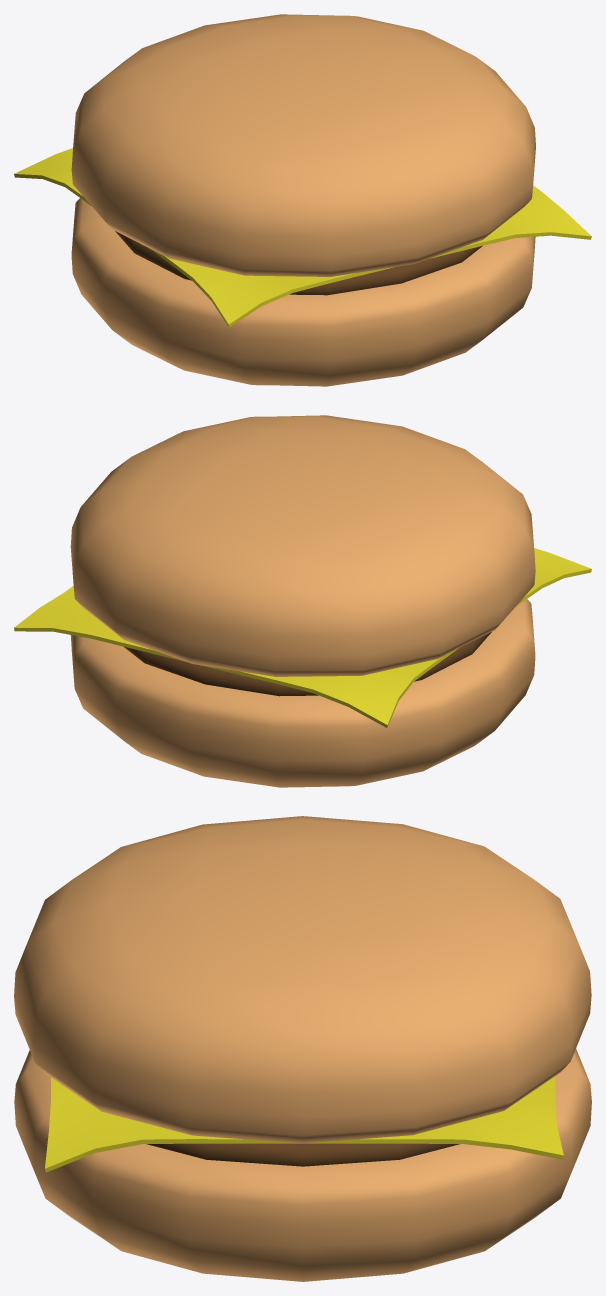
The model's file is burger.glb.
The picture shows the model from 3 angles, top to bottom: view 1: azimuth 30°, elevation 25°; view 2: azimuth 150°, elevation 25°; view 3: azimuth 270°, elevation 25°; orthographic projection. The views are drawn at different scales.
Parts seen in each view (by area): view 1: Верх, Низ, Сыр, Котлета; view 2: Верх, Низ, Сыр, Котлета; view 3: Верх, Низ, Сыр, Котлета.
Boxes of the visible parts, x1,y1,x2,y2 form: Верх: [71, 14, 535, 276]; Низ: [71, 198, 535, 386]; Сыр: [14, 148, 591, 327]; Котлета: [115, 231, 482, 295]; Верх: [70, 415, 535, 676]; Низ: [70, 599, 535, 787]; Сыр: [14, 548, 591, 727]; Котлета: [124, 632, 491, 696]; Верх: [14, 816, 591, 1143]; Низ: [14, 1049, 591, 1281]; Сыр: [45, 1076, 563, 1172]; Котлета: [146, 1143, 459, 1166].
Bounding box in the file's own units: 9.17 × 5.74 × 9.17.
